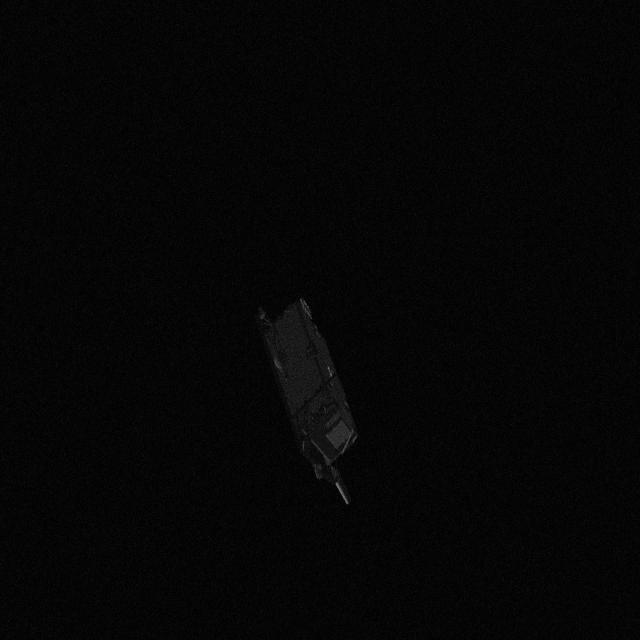satellite: (248, 286, 374, 516)
